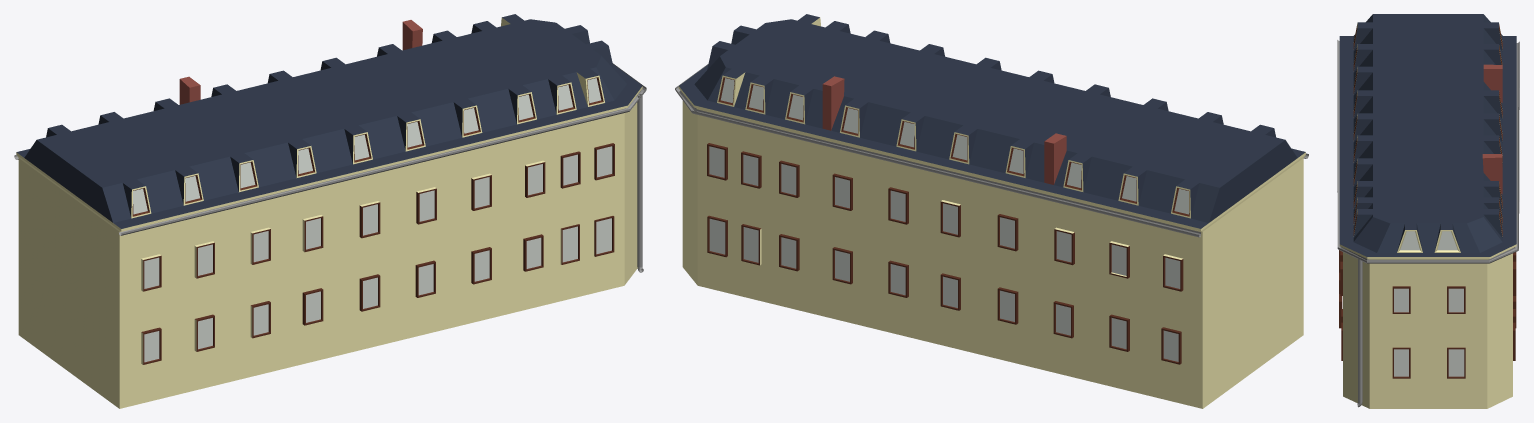
The model's file is house_long.fbx.
The picture shows the model from 3 angles, left to right: view 1: azimuth 30°, elevation 25°; view 2: azimuth 150°, elevation 25°; view 3: azimuth 270°, elevation 25°; orthographic projection. The views are drawn at different scales.
Parts seen in each view (by area): view 1: house_long; view 2: house_long; view 3: house_long.
Boxes of the visible parts, x1,y1,x2,y2 form: house_long: [14, 14, 646, 408]; house_long: [675, 14, 1308, 408]; house_long: [1337, 14, 1519, 408].
Size of the model in its own units: 2057 by 818 by 710.
